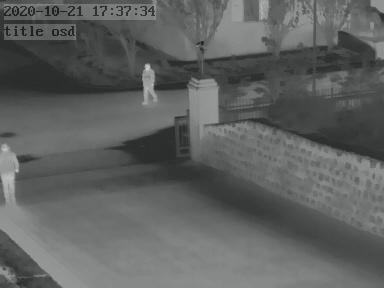person: (1, 139, 21, 208), (142, 63, 157, 102)
